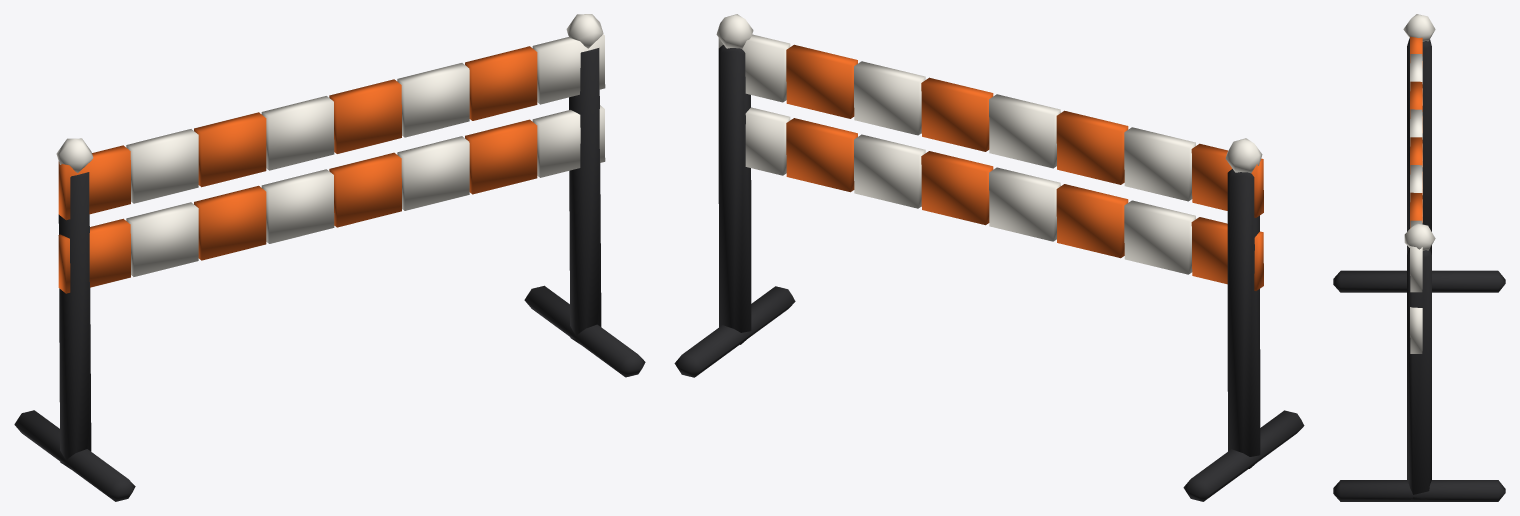
File: lod_road_barrier.glb
The picture shows the model from 3 angles, left to right: view 1: azimuth 30°, elevation 25°; view 2: azimuth 150°, elevation 25°; view 3: azimuth 270°, elevation 25°; orthographic projection. The views are drawn at different scales.
Parts seen in each view (by area): view 1: road_barrier; view 2: road_barrier; view 3: road_barrier.
Part boxes in pixels (box(x1,y1,x2,y2)): road_barrier: box(14, 14, 645, 501); road_barrier: box(674, 14, 1304, 501); road_barrier: box(1333, 14, 1505, 501).
Bounding box in the file's own units: 1.7 × 0.98 × 0.5563.
